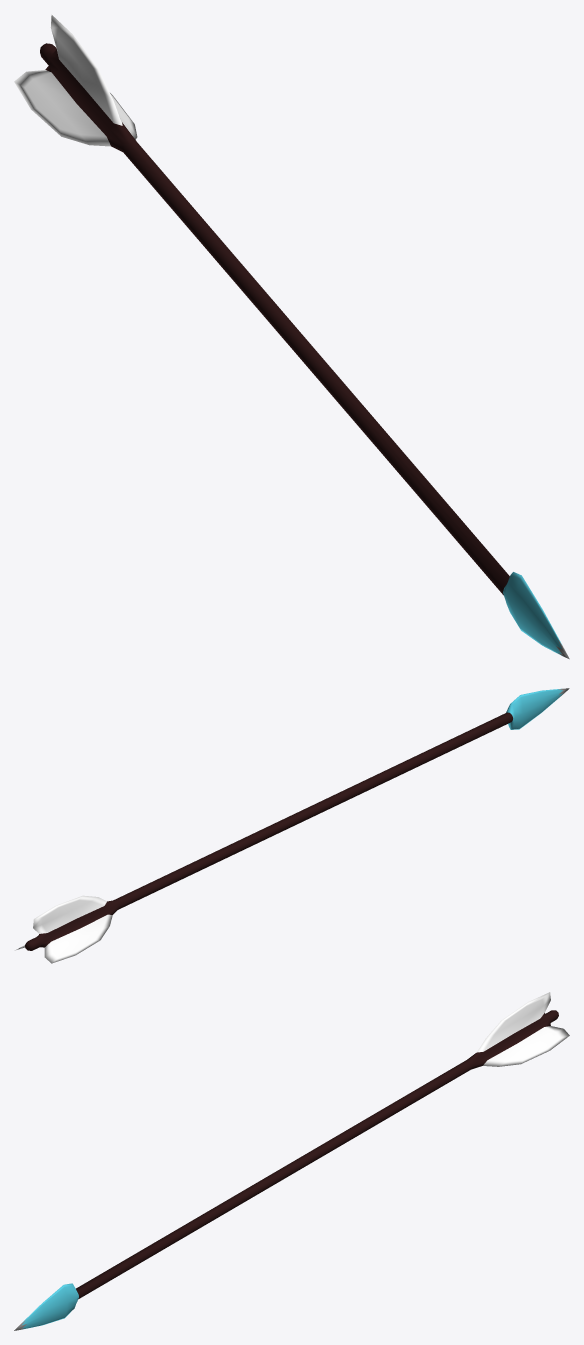
File: Arrow_Model.FBX
3 views of the same model, one above another, from view 1: azimuth 30°, elevation 25°; view 2: azimuth 150°, elevation 25°; view 3: azimuth 330°, elevation 25° (orthographic). The views are drawn at different scales.
Visible parts, largest first — view 1: ArrowBow; view 2: ArrowBow; view 3: ArrowBow.
Boxes of the visible parts, bbox=[...] form: ArrowBow: bbox=[14, 15, 569, 659]; ArrowBow: bbox=[14, 688, 569, 963]; ArrowBow: bbox=[14, 992, 569, 1330].
Bounding box in the file's own units: 17.36 × 8.88 × 98.83.
